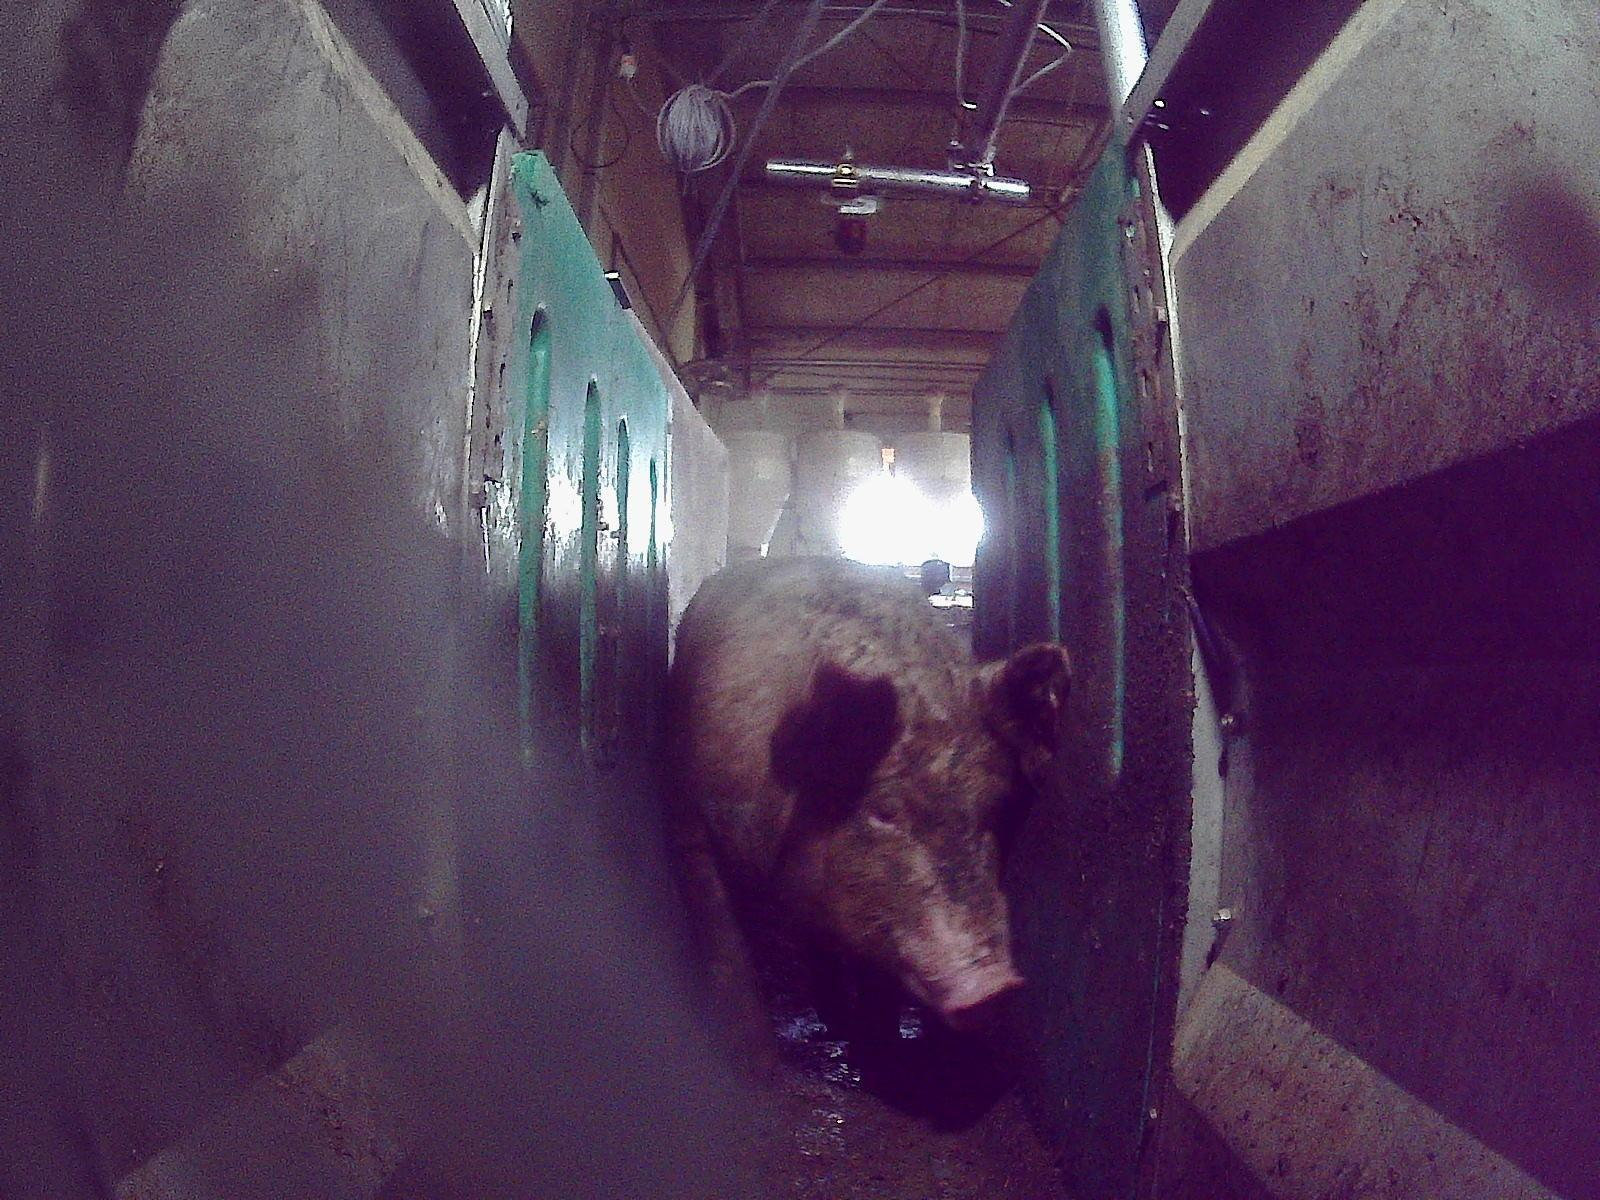Face: (805, 670, 1027, 1034)
